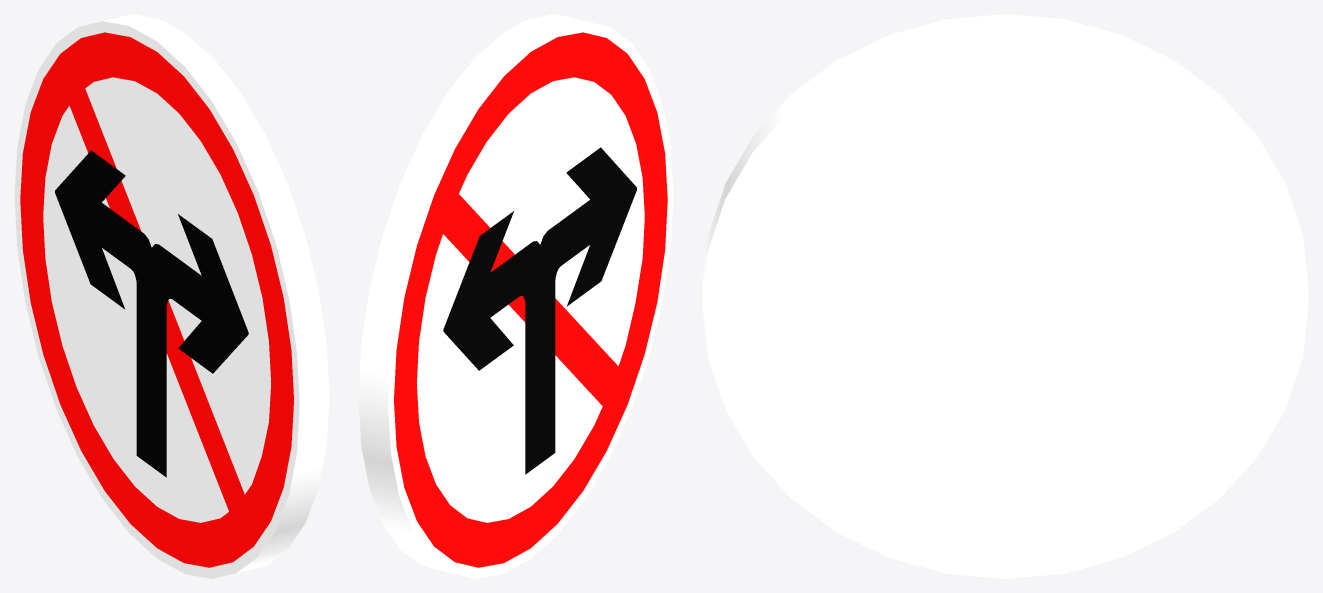
Rendered from No_Left_Right_Turn.glb.
The picture shows the model from 3 angles, left to right: view 1: azimuth 30°, elevation 25°; view 2: azimuth 150°, elevation 25°; view 3: azimuth 270°, elevation 25°; orthographic projection. The views are drawn at different scales.
Parts seen in each view (by area): view 1: No_Left_Right_Turn; view 2: No_Left_Right_Turn; view 3: No_Left_Right_Turn.
Boxes of the visible parts, x1,y1,x2,y2 form: No_Left_Right_Turn: (14, 14, 329, 578); No_Left_Right_Turn: (358, 14, 673, 578); No_Left_Right_Turn: (702, 14, 1308, 578).
Bounding box in the file's own units: 0.075 × 1 × 1.
